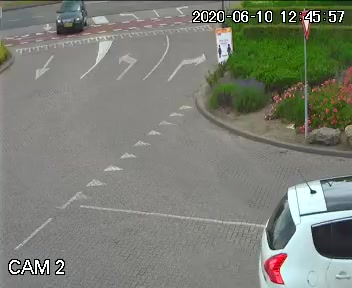car: (51, 0, 83, 41)
